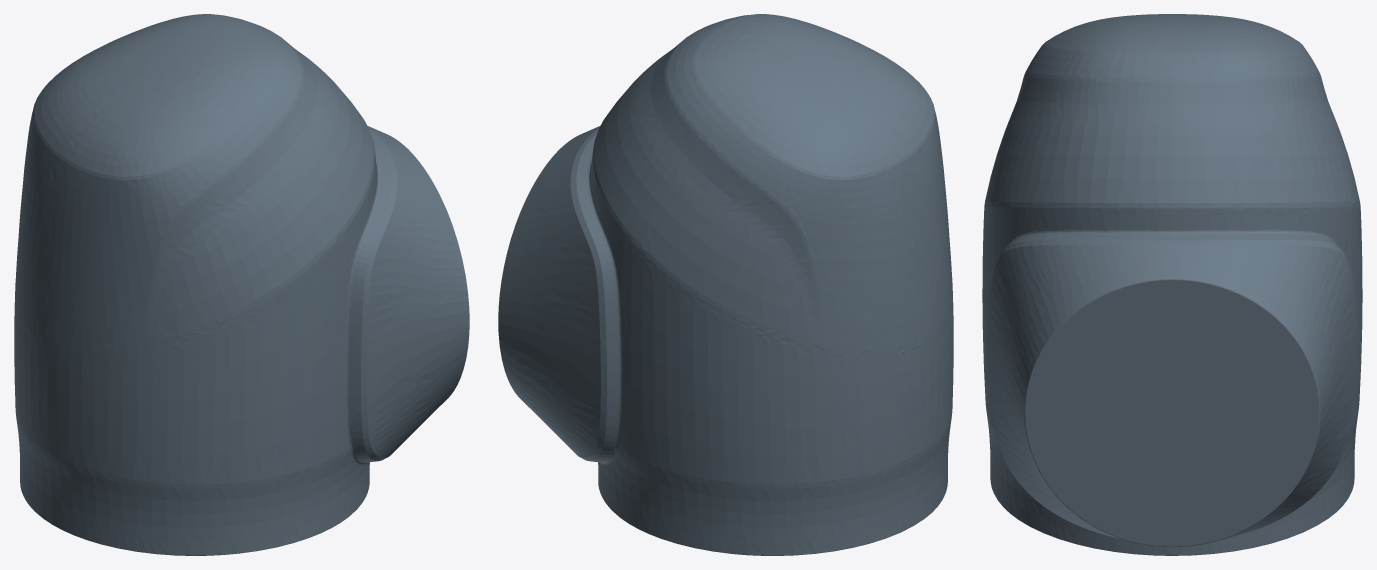
3 views of the same model, side by side, from view 1: azimuth 30°, elevation 25°; view 2: azimuth 150°, elevation 25°; view 3: azimuth 270°, elevation 25° (orthographic). The views are drawn at different scales.
Visible parts, largest first — view 1: H2017_2_0; view 2: H2017_2_0; view 3: H2017_2_0.
Part boxes in pixels (x1,y1,x2,y2): H2017_2_0: [14, 14, 469, 555]; H2017_2_0: [498, 14, 953, 555]; H2017_2_0: [982, 14, 1362, 555].
Size of the model in its own units: 243 by 213 by 283.
